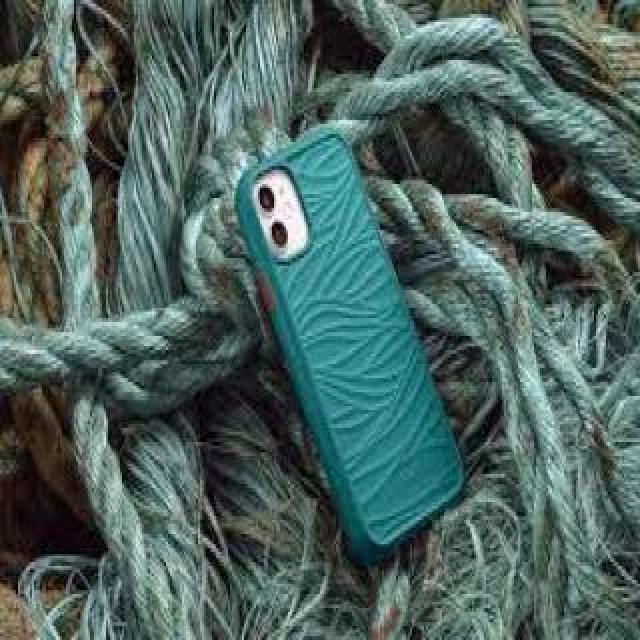smart phone: (220, 85, 487, 550)
